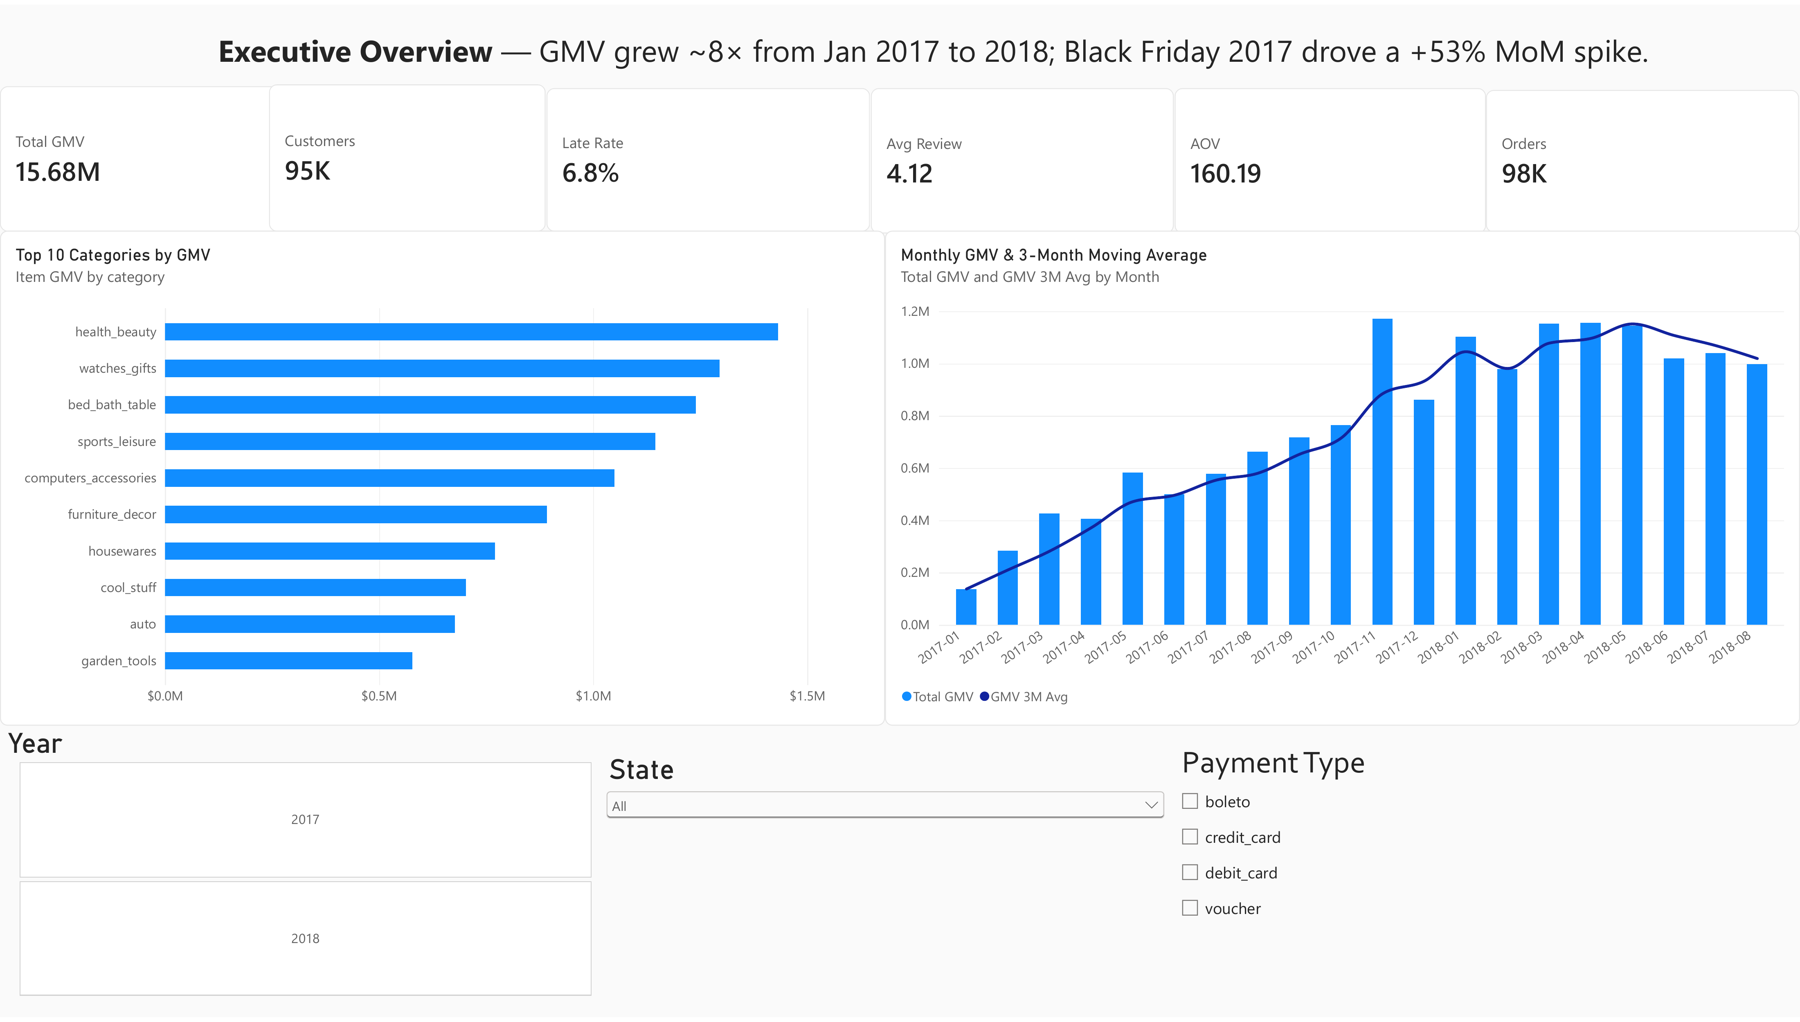

The page's visual inventory and layout, read from the dashboard file:
{"tool":"powerbi","page":{"name":"Overview","canvas":[1920,1080],"ordinal":0},"visuals":[{"type":"cardVisual","fields":{"Data":["fct_orders.Total GMV"]},"box":[0,87,303.3,155.3],"z":0},{"type":"cardVisual","fields":{"Data":["fct_orders.Orders"]},"box":[1585.3,91.3,334.9,152.2],"z":1000},{"type":"cardVisual","fields":{"Data":["fct_orders.AOV"]},"box":[1252.6,89.2,332.5,155.3],"z":2000},{"type":"cardVisual","fields":{"Data":["fct_orders.Customers"]},"box":[287,84.8,296,157.1],"z":3000},{"type":"cardVisual","fields":{"Data":["fct_orders.Late Rate"]},"box":[582.8,89.2,345.3,153.5],"z":4000},{"type":"cardVisual","fields":{"Data":["fct_orders.Avg Review"]},"box":[928.6,89.2,323.4,155.3],"z":5000},{"type":"lineClusteredColumnComboChart","title":"Monthly GMV & 3-Month Moving Average","fields":{"Category":["Date.Month"],"Y":["fct_orders.Total GMV"],"Y2":["fct_orders.GMV 3M Avg"]},"box":[943.8,241.4,976.4,528.4],"z":6000},{"type":"clusteredBarChart","title":"Top 10 Categories by GMV","fields":{"Category":["dim_product.category"],"Y":["fct_orders.Item GMV"]},"box":[0,241.4,943.8,528.4],"z":7000},{"type":"slicer","fields":{"Values":["Date.Year"]},"box":[0,769.8,650.2,289.2],"z":8000},{"type":"slicer","fields":{"Values":["dim_customer.customer_state"]},"box":[641.5,798.1,604.5,117.4],"z":9000},{"type":"slicer","fields":{"Values":["fct_orders.payment_type"]},"box":[1252.6,787.2,537.1,258.8],"z":10000},{"type":"textbox","box":[232.7,26.1,1687.5,215.3],"z":10001}]}

Visuals, with their boxes in screenshot pixels (x1, y1, x2, y2), scaled from the page's 1920x1080 canvas onto the 1800x1022 screenshot:
cardVisual - fct_orders.Total GMV: <bbox>0, 82, 284, 229</bbox>
cardVisual - fct_orders.Orders: <bbox>1486, 86, 1799, 230</bbox>
cardVisual - fct_orders.AOV: <bbox>1174, 84, 1486, 231</bbox>
cardVisual - fct_orders.Customers: <bbox>269, 80, 547, 229</bbox>
cardVisual - fct_orders.Late Rate: <bbox>546, 84, 870, 230</bbox>
cardVisual - fct_orders.Avg Review: <bbox>871, 84, 1174, 231</bbox>
"Monthly GMV & 3-Month Moving Average" lineClusteredColumnComboChart: <bbox>885, 228, 1799, 728</bbox>
"Top 10 Categories by GMV" clusteredBarChart: <bbox>0, 228, 885, 728</bbox>
slicer - Date.Year: <bbox>0, 728, 610, 1002</bbox>
slicer - dim_customer.customer_state: <bbox>601, 755, 1168, 866</bbox>
slicer - fct_orders.payment_type: <bbox>1174, 745, 1678, 990</bbox>
textbox: <bbox>218, 25, 1799, 228</bbox>
